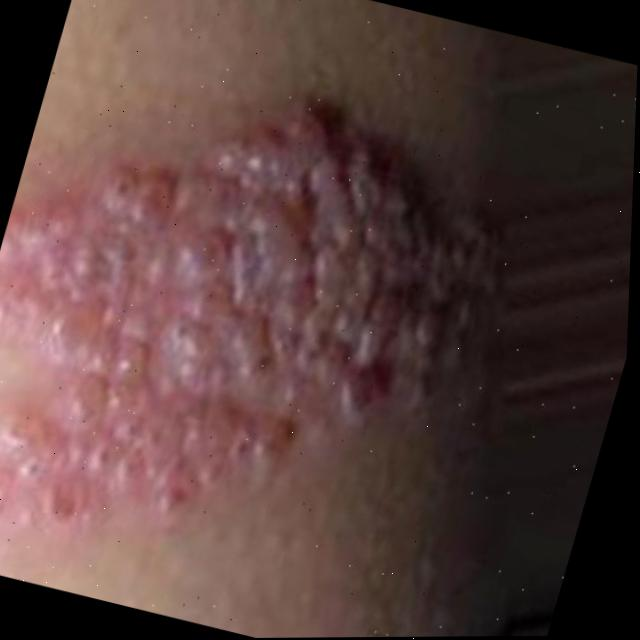Shingles: (0, 75, 528, 591)
